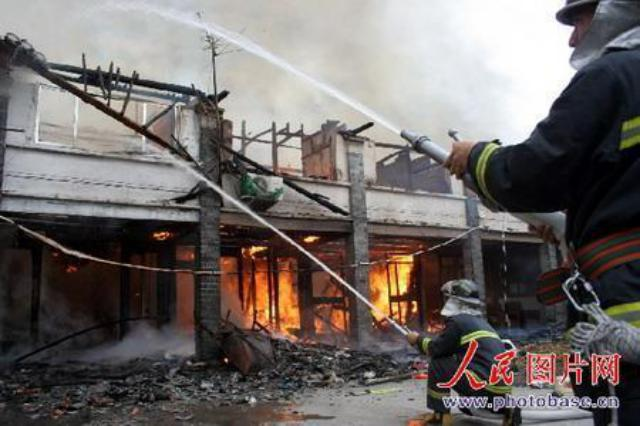fire: (276, 270, 298, 325), (368, 259, 388, 318), (220, 254, 237, 309), (252, 270, 268, 321), (326, 305, 344, 326), (397, 262, 409, 290), (388, 262, 394, 291), (242, 243, 264, 250), (391, 253, 412, 258)
